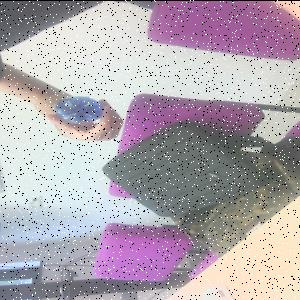Plastic-bottle: (56, 97, 104, 125)
